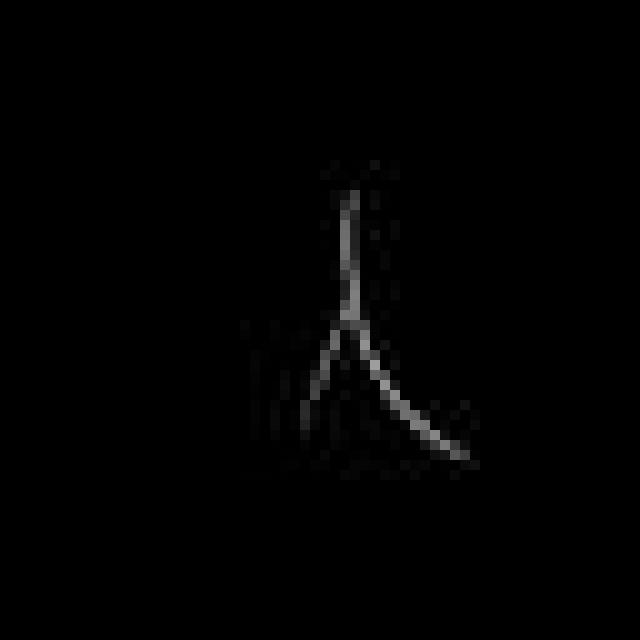8 -eight-: (278, 180, 471, 473)
